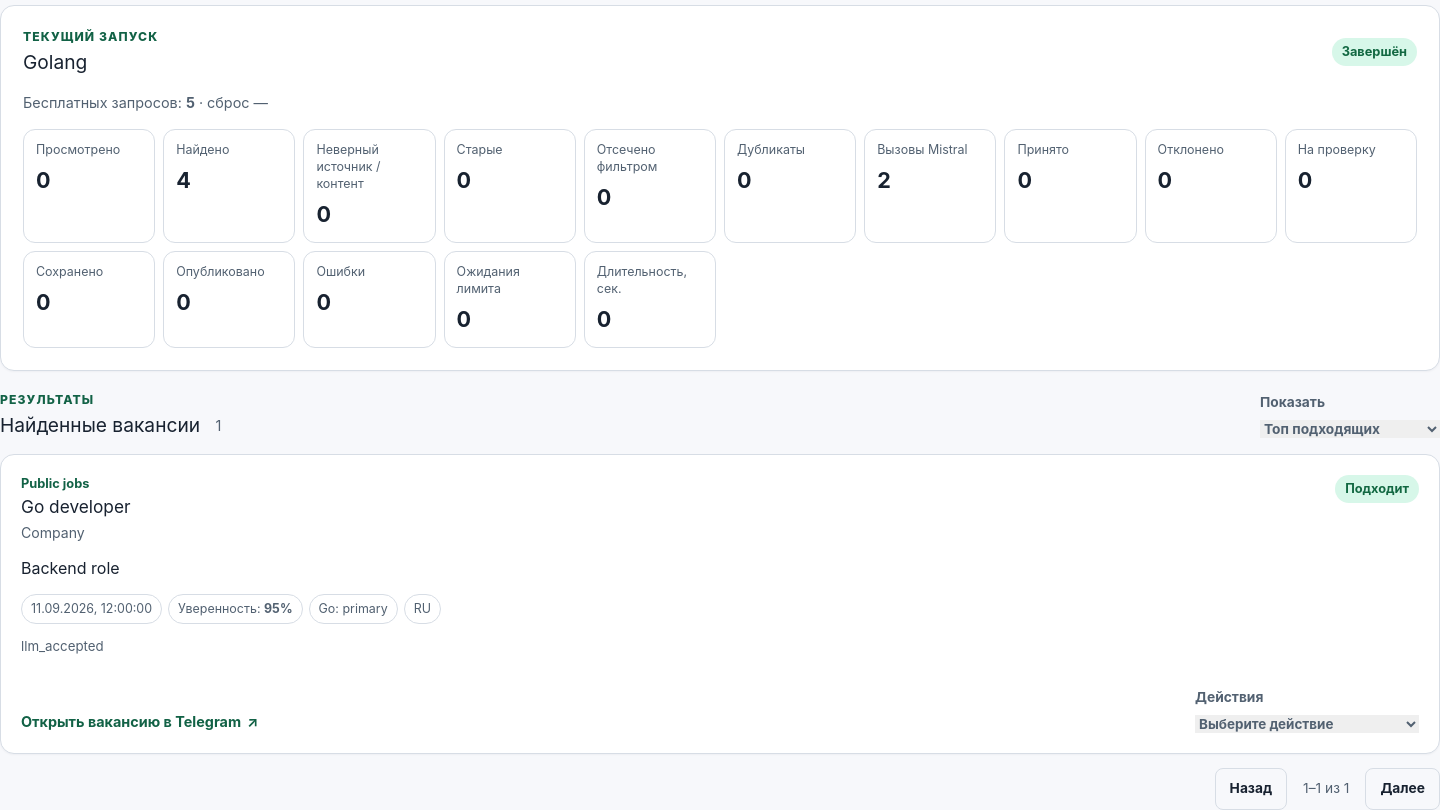
Test: Premium search › filters and confirms manual actions without optimistic publication
(page scrolled)
Expected: the heading "Go developer" is shown, [21, 496, 130, 519]
Select "Нужна проверка" in the dropdown labelled "Показать" at (1350,429), box [1260, 420, 1439, 438]
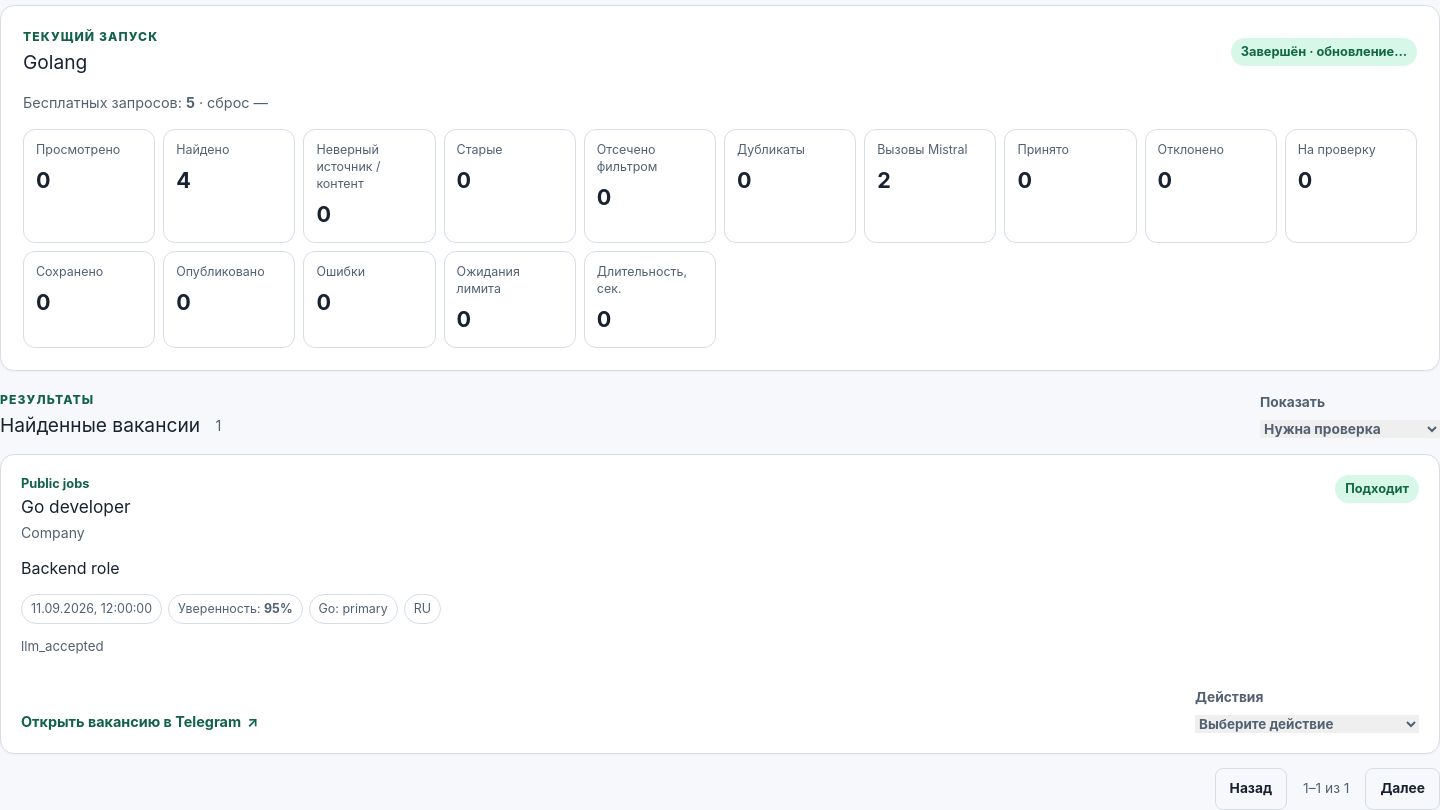
Select "Сохранить в таблицы" in the dropdown named "Действия с вакансией «Go developer»" at (1307,724), box [1195, 715, 1419, 733]
(page scrolled)
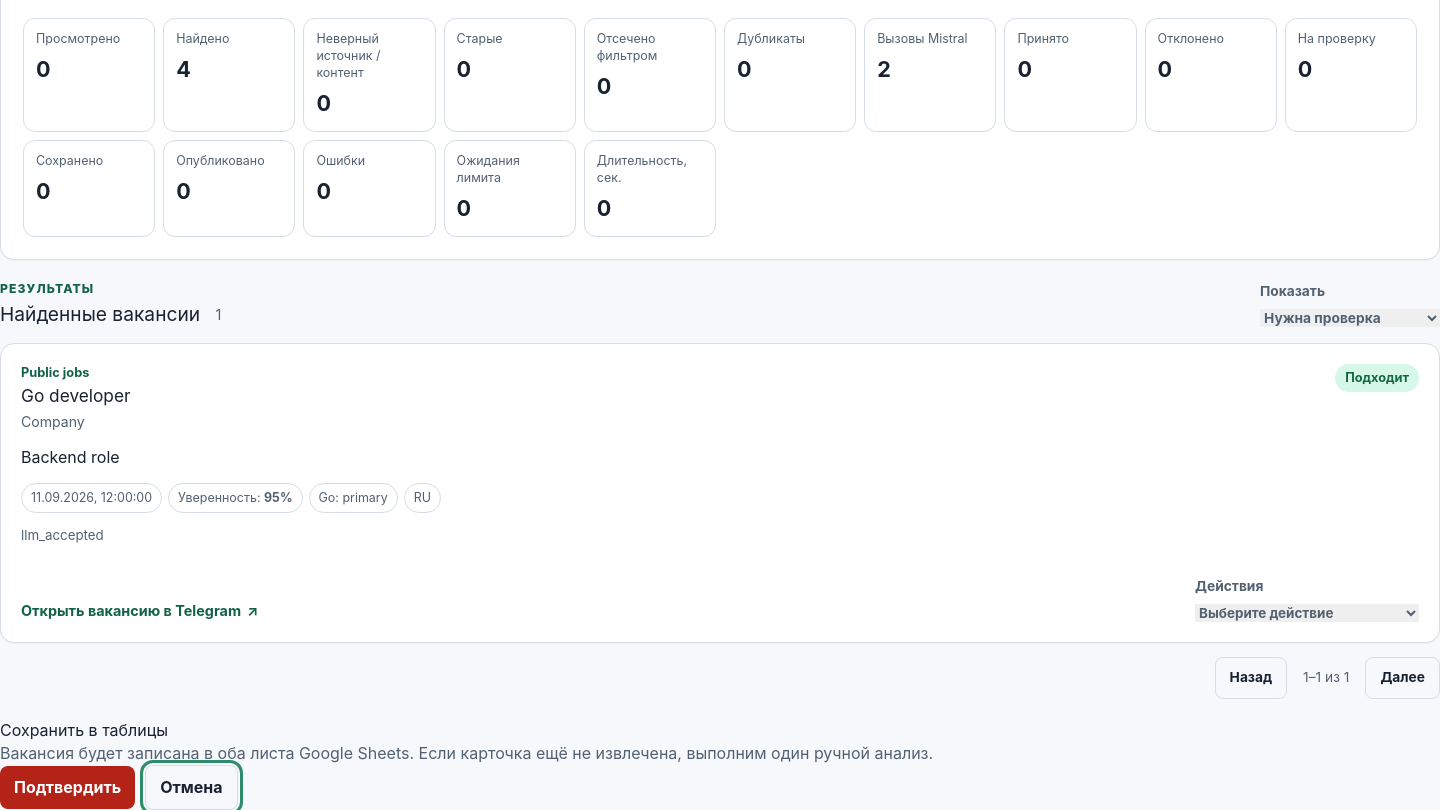
Click the button "Подтвердить" at (68,788), box [0, 766, 135, 809]
(page scrolled)
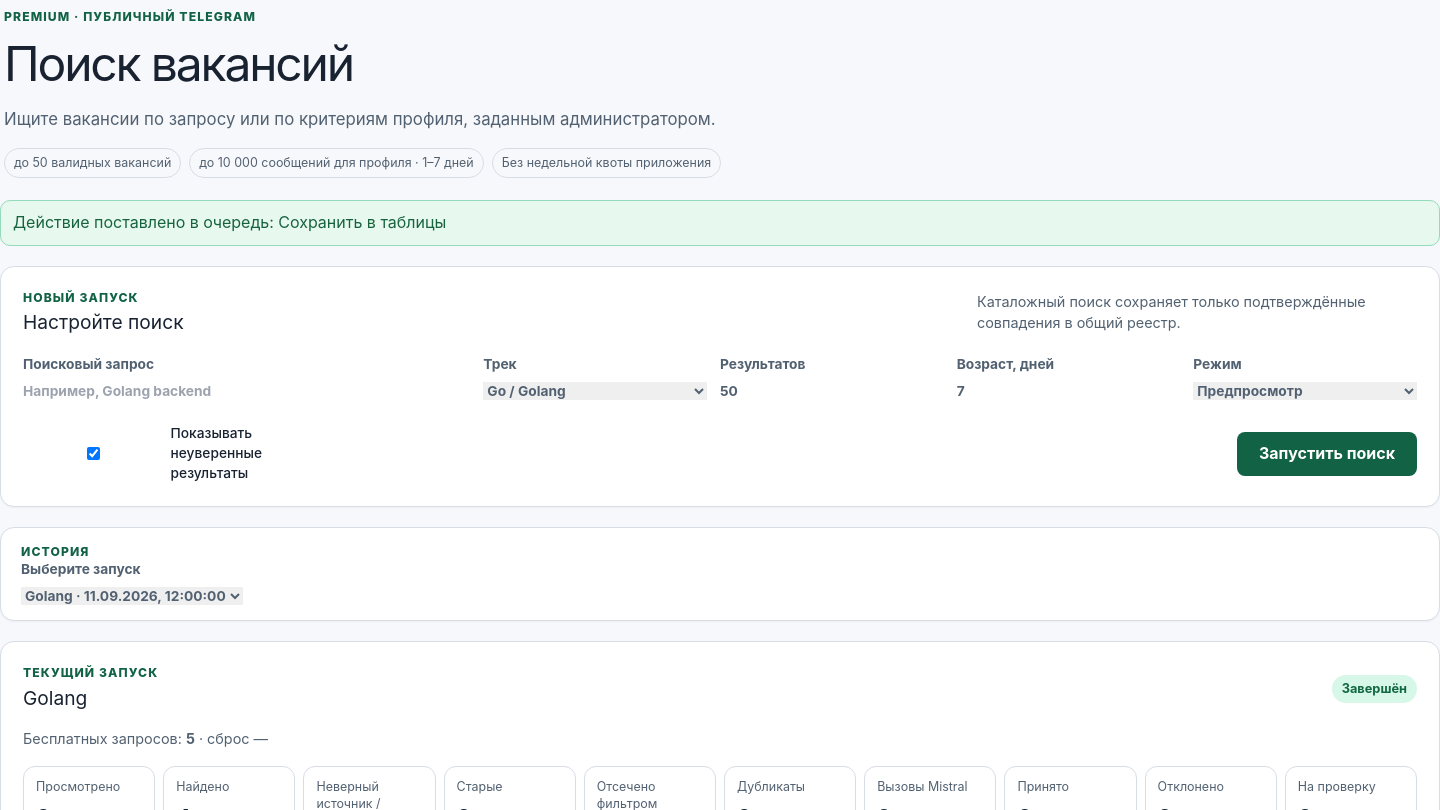
Expected: the text "Опубликован" is not shown
Now the text "Действие поставлено в очередь: Сохранить в таблицы" is shown, box [0, 200, 1439, 246]
